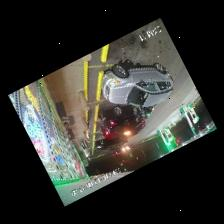person: (117, 57, 139, 68), (97, 110, 109, 129), (79, 141, 89, 158)
